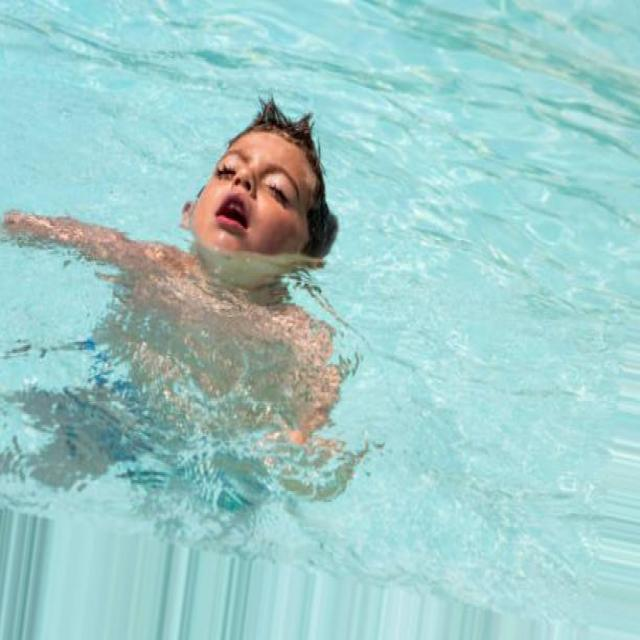Out of Water: (142, 99, 348, 305)
